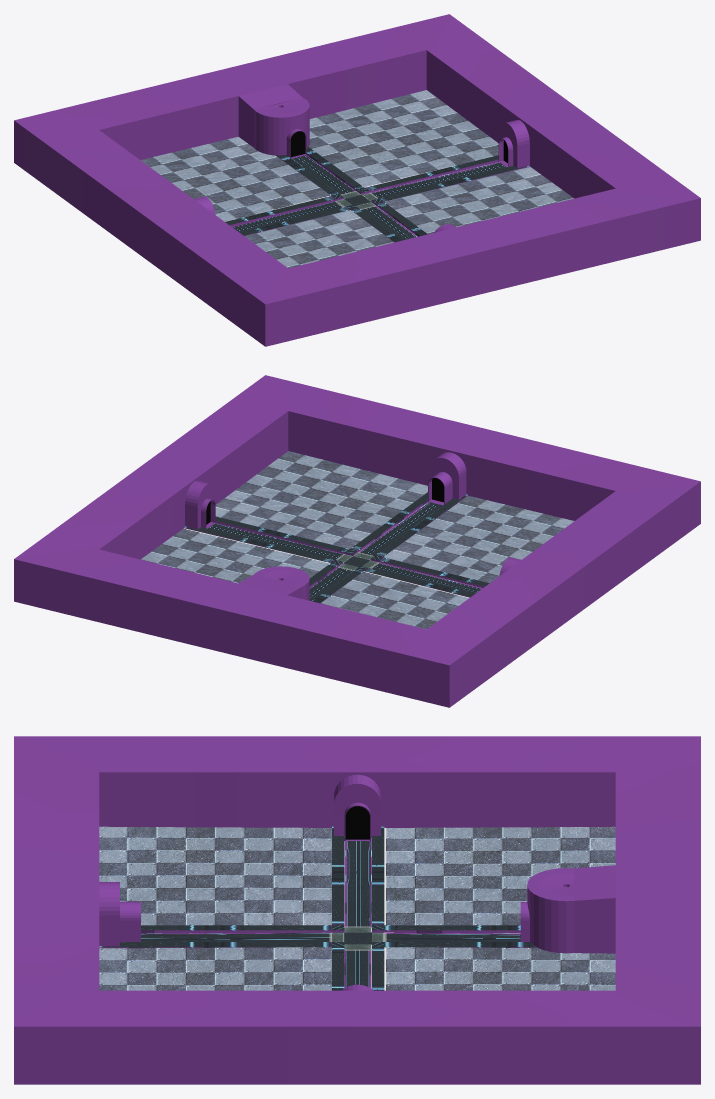
Rendered from groundbutcooler.obj.
The picture shows the model from 3 angles, top to bottom: view 1: azimuth 30°, elevation 25°; view 2: azimuth 150°, elevation 25°; view 3: azimuth 270°, elevation 25°; orthographic projection. The views are drawn at different scales.
Parts seen in each view (by area): view 1: Plane; view 2: Plane; view 3: Plane.
Part boxes in pixels (x1,y1,x2,y2): Plane: (14,14,700,346); Plane: (14,375,700,707); Plane: (14,736,700,1084).
Bounding box in the file's own units: 132 × 12.75 × 132.
Materials: 1 (1 with a texture image).
